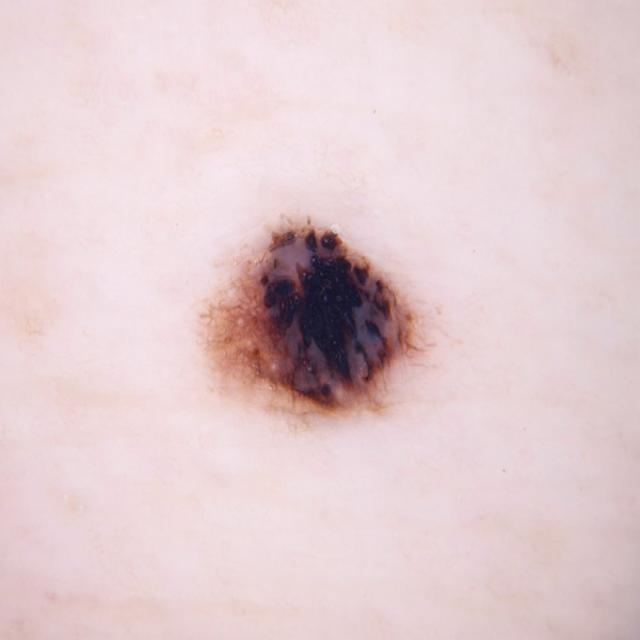Skin-Cancer Pigmented benign keratosis: (28, 43, 640, 640)
